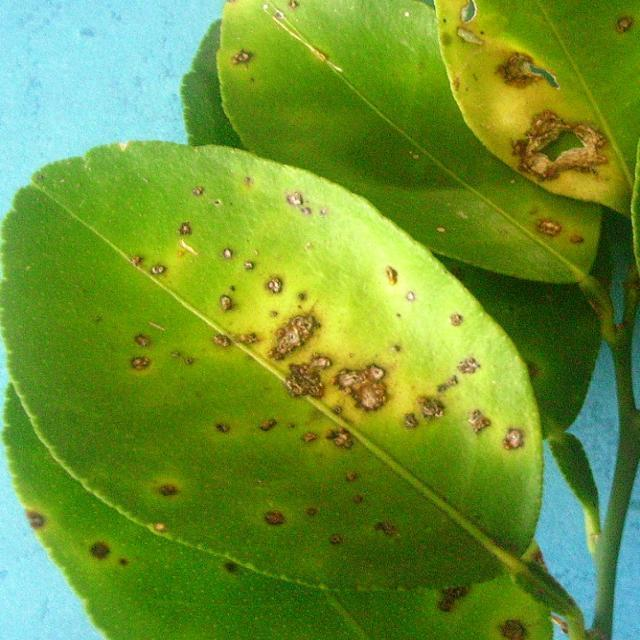Bacterial Spot: (74, 166, 527, 554)
